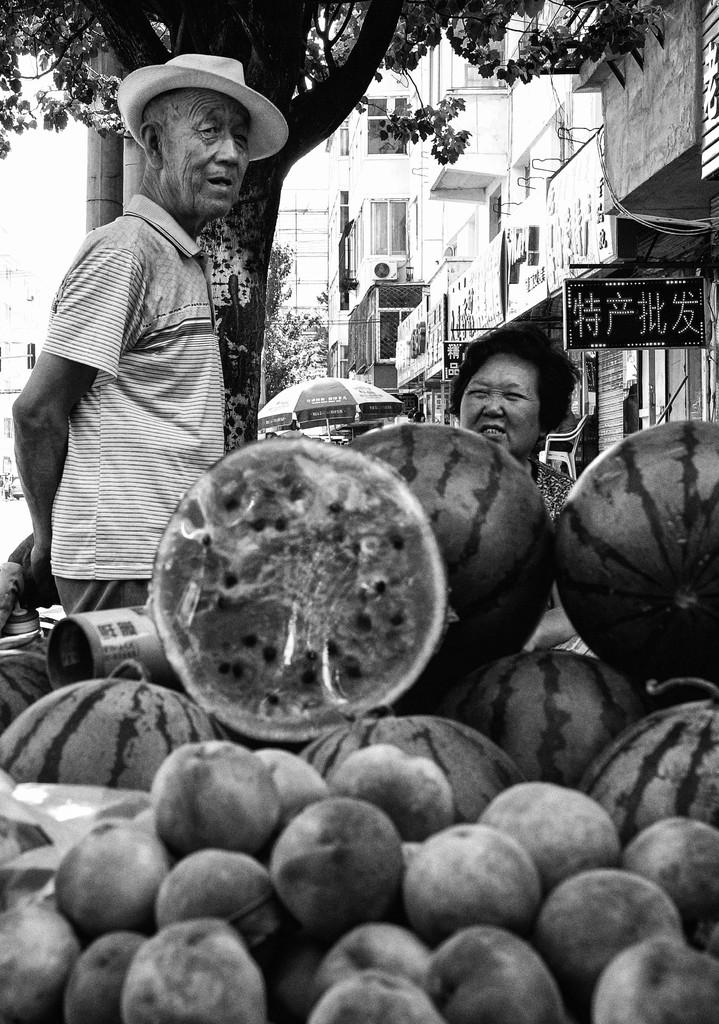Hat: (118, 51, 294, 165)
